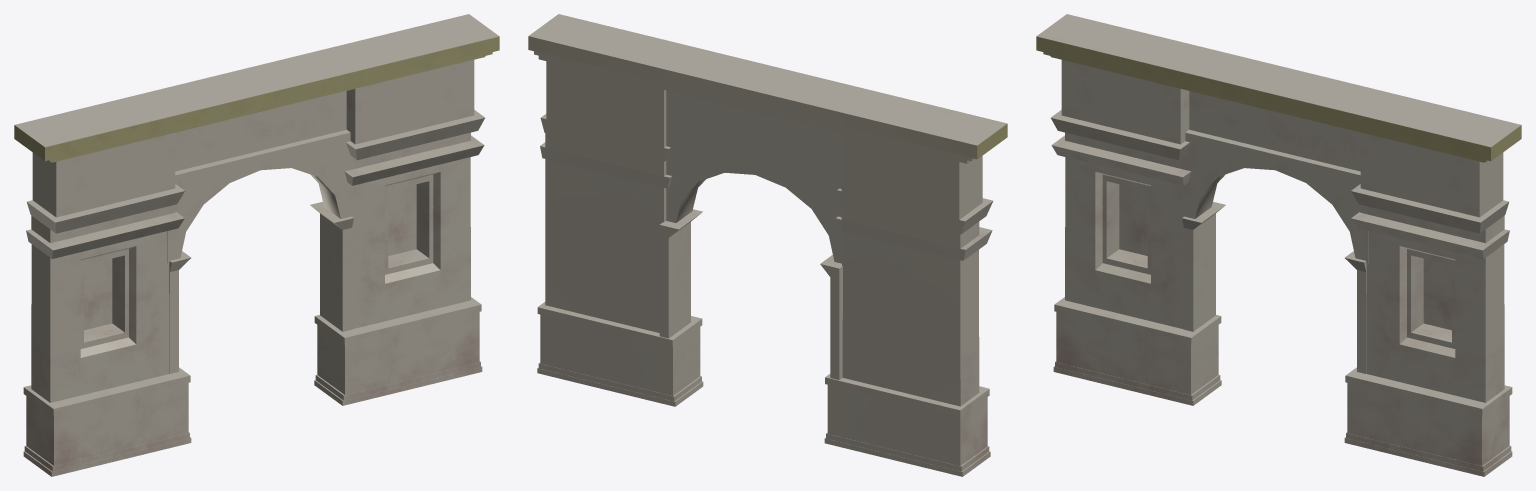
Rendered from ArcoDx.fbx.
3 views of the same model, side by side, from view 1: azimuth 30°, elevation 25°; view 2: azimuth 150°, elevation 25°; view 3: azimuth 330°, elevation 25° (orthographic).
Parts seen in each view (by area): view 1: Cube.023; view 2: Cube.023; view 3: Cube.023.
Part boxes in pixels (box(x1,y1,x2,y2)): Cube.023: box(14, 14, 499, 476); Cube.023: box(528, 14, 1007, 476); Cube.023: box(1036, 14, 1521, 476).
Size of the model in its own units: 3093 by 2187 by 409.
